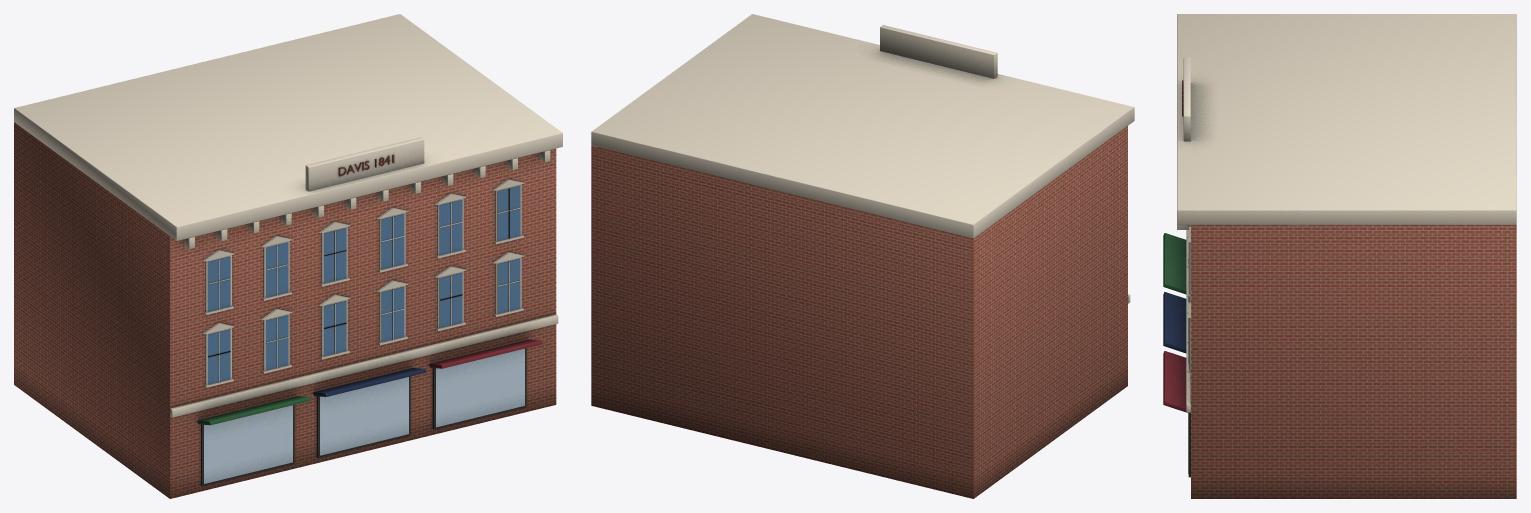
File: davis.glb
3 views of the same model, side by side, from view 1: azimuth 30°, elevation 25°; view 2: azimuth 150°, elevation 25°; view 3: azimuth 270°, elevation 25° (orthographic). The views are drawn at different scales.
Parts seen in each view (by area): view 1: davis; view 2: davis; view 3: davis.
Boxes of the visible parts, <box> form: davis: <box>14,14,562,498</box>; davis: <box>591,14,1134,498</box>; davis: <box>1163,14,1516,498</box>.
Size of the model in its own units: 20 by 14.9 by 15.19.
Materials: 1 (1 with a texture image).
